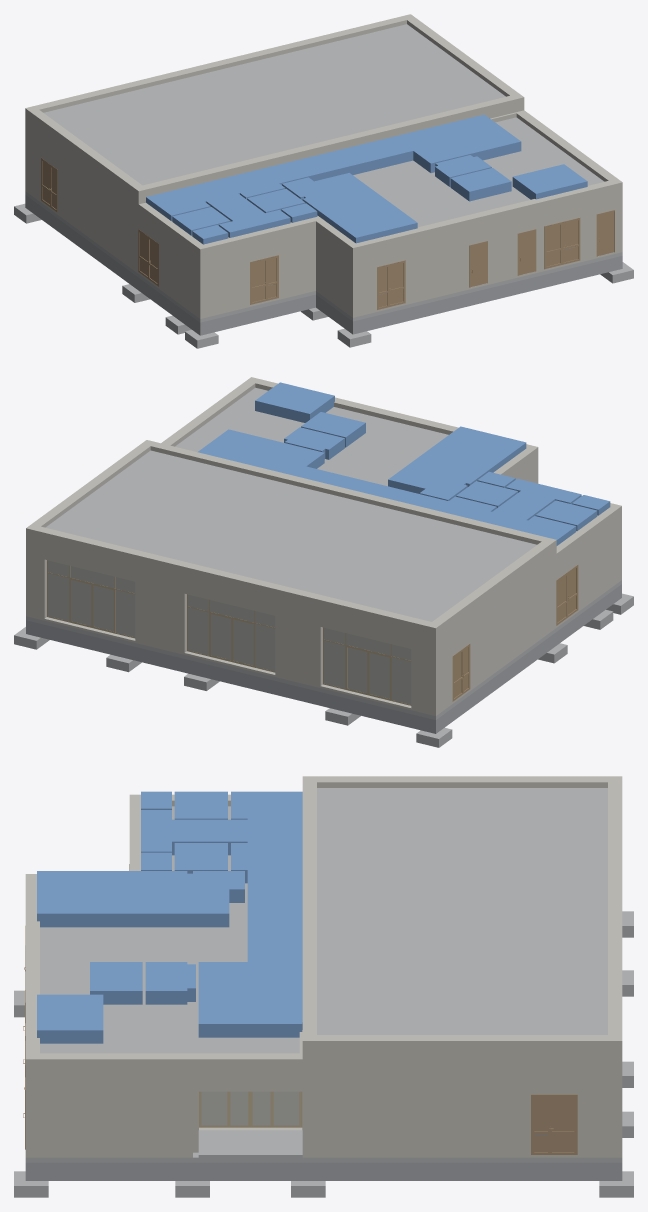
File: maison-quartier.glb
3 renders of one model, top to bottom at view 1: azimuth 30°, elevation 25°; view 2: azimuth 150°, elevation 25°; view 3: azimuth 270°, elevation 25°, orthographic. The views are drawn at different scales.
Parts seen in each view (by area): view 1: 1pm81ga9z3r9D_EBEXRCRN, 1pm81ga9z3r9D_EBEXRCzx, 2w8MxrCf58AOICLfTL9ZyE, 1pm81ga9z3r9D_EBEXQoq3, 1pm81ga9z3r9D_EBEXRCPh, 1pm81ga9z3r9D_EBEXRCpw, 1pm81ga9z3r9D_EBEXRCuu, 1X5wOCuV96zhYadvBhhvDu, 1pm81ga9z3r9D_EBEXRCNA, 2aSvq96iDEmAe9JLHlpdwf, 1pm81ga9z3r9D_EBEXRCy_, 1pm81ga9z3r9D_EBEXRDhF (+24 smaller); view 2: 1pm81ga9z3r9D_EBEXRCRN, 1pm81ga9z3r9D_EBEXRCsG, 1pm81ga9z3r9D_EBEXQoq3, 1pm81ga9z3r9D_EBEXRCPh, 2w8MxrCf58AOICLfTL9ZyE, 2aSvq96iDEmAe9JLHlpdva, 1X5wOCuV96zhYadvBhhvDu, 1pm81ga9z3r9D_EBEXRCNA, 1pm81ga9z3r9D_EBEXRDhF, 2aSvq96iDEmAe9JLHlpdyz, 1pm81ga9z3r9D_EBEXRCuu, 1pm81ga9z3r9D_EBEXRDlg (+31 smaller); view 3: 1pm81ga9z3r9D_EBEXRCRN, 203tCY9wL4pAeYGuiltOkI, 1pm81ga9z3r9D_EBEXRCvn, 2w8MxrCf58AOICLfTL9ZyE, 1pm81ga9z3r9D_EBEXRCPh, 1X5wOCuV96zhYadvBhhvDu, 2aSvq96iDEmAe9JLHlpdvV, 2aSvq96iDEmAe9JLHlpcUt, 1pm81ga9z3r9D_EBEXRCuu, 1pm81ga9z3r9D_EBEXRCsG, 1pm81ga9z3r9D_EBEXRDhF, 1pm81ga9z3r9D_EBEXRCzx (+23 smaller).
Part boxes in pixels (x1,y1,x2,y2): 1pm81ga9z3r9D_EBEXRCRN: (43,24,505,185); 1pm81ga9z3r9D_EBEXRCzx: (356,179,622,315); 2w8MxrCf58AOICLfTL9ZyE: (146,114,521,221); 1pm81ga9z3r9D_EBEXQoq3: (29,109,141,270); 1pm81ga9z3r9D_EBEXRCPh: (353,117,604,227); 1pm81ga9z3r9D_EBEXRCpw: (203,216,322,317); 1pm81ga9z3r9D_EBEXRCuu: (134,94,524,273); 1X5wOCuV96zhYadvBhhvDu: (282,173,417,293); 1pm81ga9z3r9D_EBEXRCNA: (138,202,207,318); 2aSvq96iDEmAe9JLHlpdwf: (348,256,622,334); 1pm81ga9z3r9D_EBEXRCy_: (316,219,359,317); 1pm81ga9z3r9D_EBEXRDhF: (25,191,622,322); 1pm81ga9z3r9D_EBEXRCRN: (45,450,536,621); 1pm81ga9z3r9D_EBEXRCsG: (26,525,440,715); 1pm81ga9z3r9D_EBEXQoq3: (433,541,552,712); 1pm81ga9z3r9D_EBEXRCPh: (175,387,448,486); 2w8MxrCf58AOICLfTL9ZyE: (197,429,576,545); 2aSvq96iDEmAe9JLHlpdva: (26,620,440,733); 1X5wOCuV96zhYadvBhhvDu: (388,426,526,500); 1pm81ga9z3r9D_EBEXRCNA: (556,504,621,627); 1pm81ga9z3r9D_EBEXRDhF: (26,580,621,719); 2aSvq96iDEmAe9JLHlpdyz: (428,587,617,733); 1pm81ga9z3r9D_EBEXRCuu: (143,440,556,630); 1pm81ga9z3r9D_EBEXRDlg: (149,445,542,544); 1pm81ga9z3r9D_EBEXRCRN: (317,788,607,1034); 203tCY9wL4pAeYGuiltOkI: (314,1036,610,1157); 1pm81ga9z3r9D_EBEXRCvn: (37,1054,302,1157); 2w8MxrCf58AOICLfTL9ZyE: (198,791,302,1037); 1pm81ga9z3r9D_EBEXRCPh: (40,806,299,1053); 1X5wOCuV96zhYadvBhhvDu: (37,871,244,927); 2aSvq96iDEmAe9JLHlpdvV: (302,1162,610,1180); 2aSvq96iDEmAe9JLHlpcUt: (37,1162,302,1180); 1pm81ga9z3r9D_EBEXRCuu: (302,776,314,1157); 1pm81ga9z3r9D_EBEXRCsG: (611,776,622,1157); 1pm81ga9z3r9D_EBEXRDhF: (25,1152,622,1162); 1pm81ga9z3r9D_EBEXRCzx: (25,879,36,1157).
Size of the model in its own units: 22.51 by 5.8 by 21.48.
